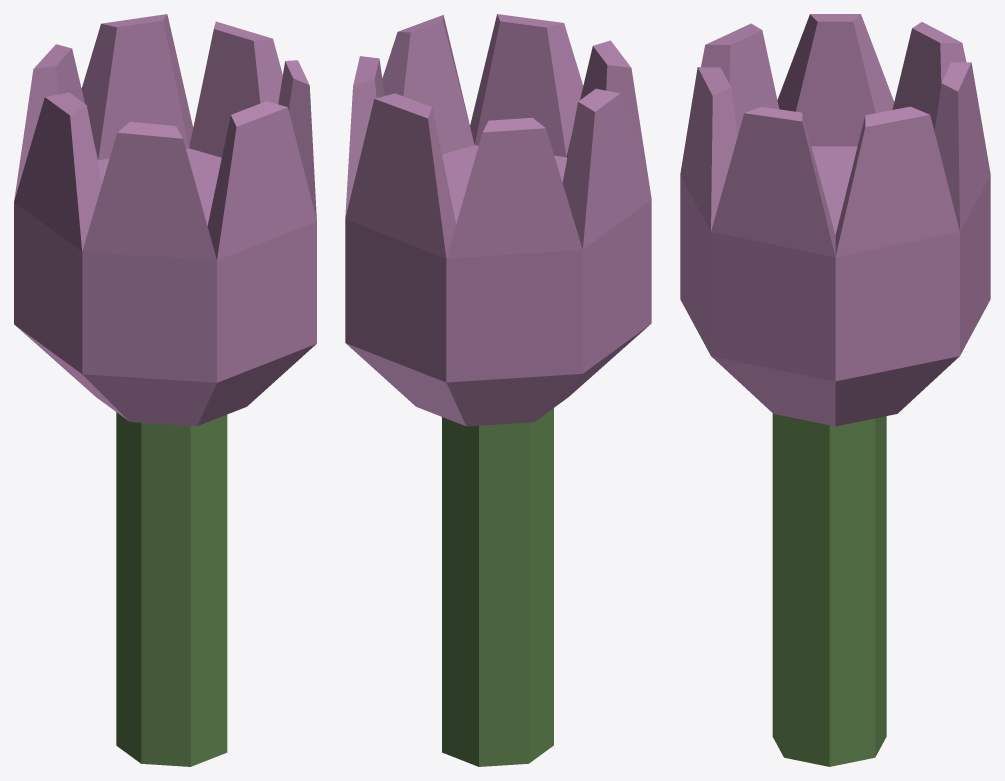
File: rozetulp.fbx
3 views of the same model, side by side, from view 1: azimuth 30°, elevation 25°; view 2: azimuth 150°, elevation 25°; view 3: azimuth 270°, elevation 25° (orthographic).
Parts seen in each view (by area): view 1: Rozetulp; view 2: Rozetulp; view 3: Rozetulp.
Boxes of the visible parts, left/top/right/bottom form: Rozetulp: left=14, top=14, right=316, bottom=766; Rozetulp: left=345, top=14, right=651, bottom=766; Rozetulp: left=680, top=14, right=990, bottom=766.
Size of the model in its own units: 0.3301 by 0.8195 by 0.3386.
